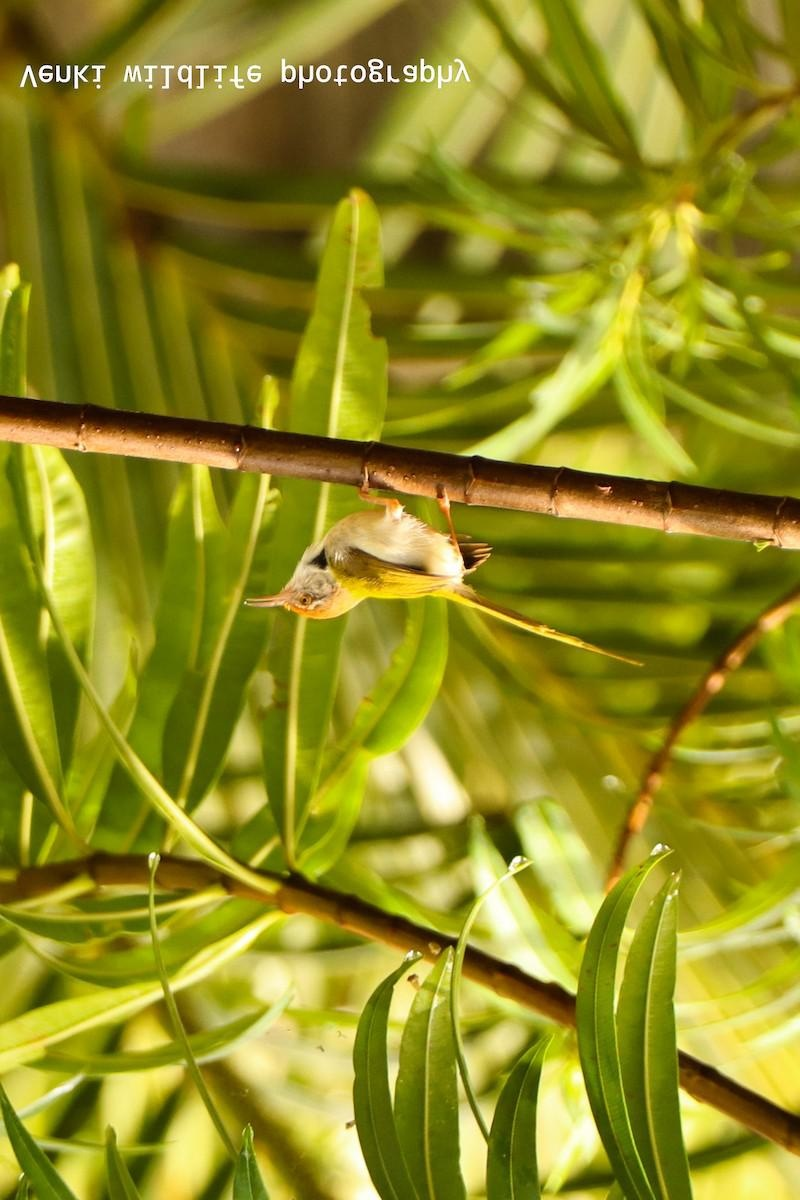tailorbird: (229, 456, 675, 676)
